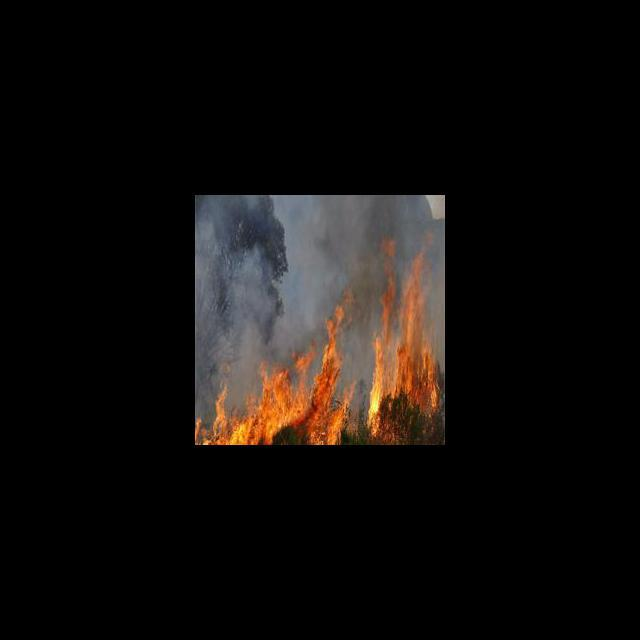Fire: (195, 291, 362, 444), (364, 235, 444, 443)
